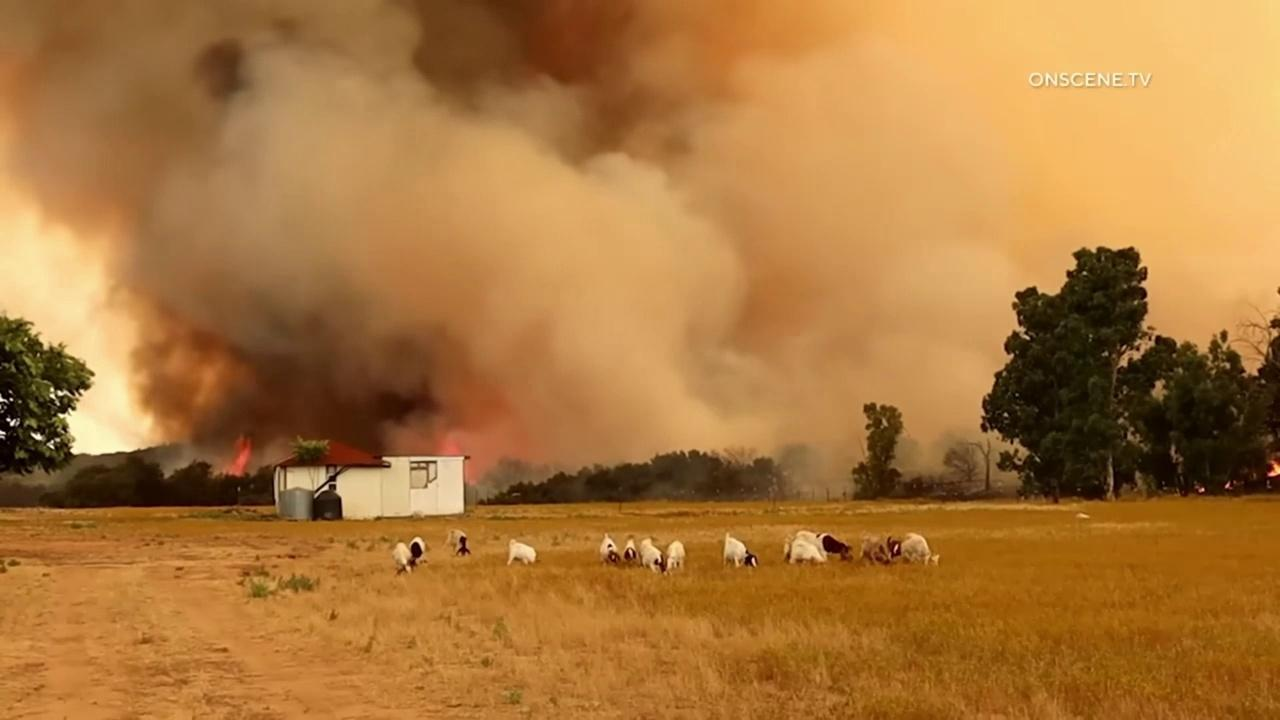fire: (224, 434, 253, 476), (1266, 459, 1280, 479), (441, 445, 463, 454), (1224, 479, 1237, 490), (1193, 484, 1206, 493)
smoke: (0, 0, 1280, 500)
